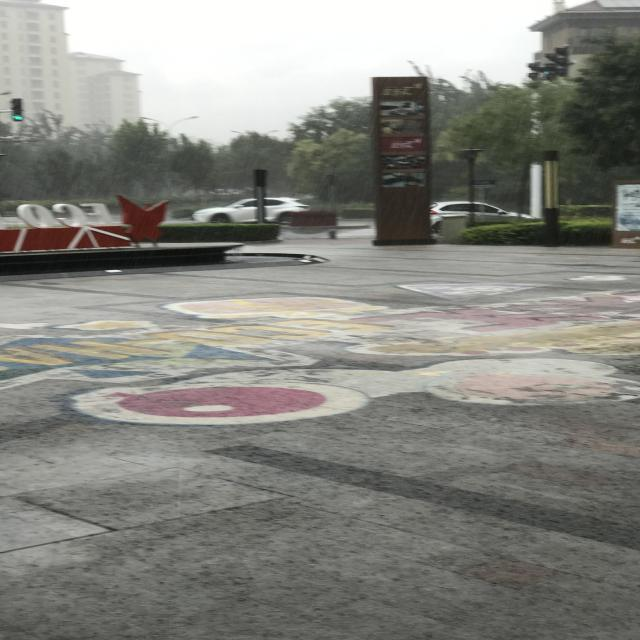car: (196, 316, 225, 450), (200, 98, 229, 210)
